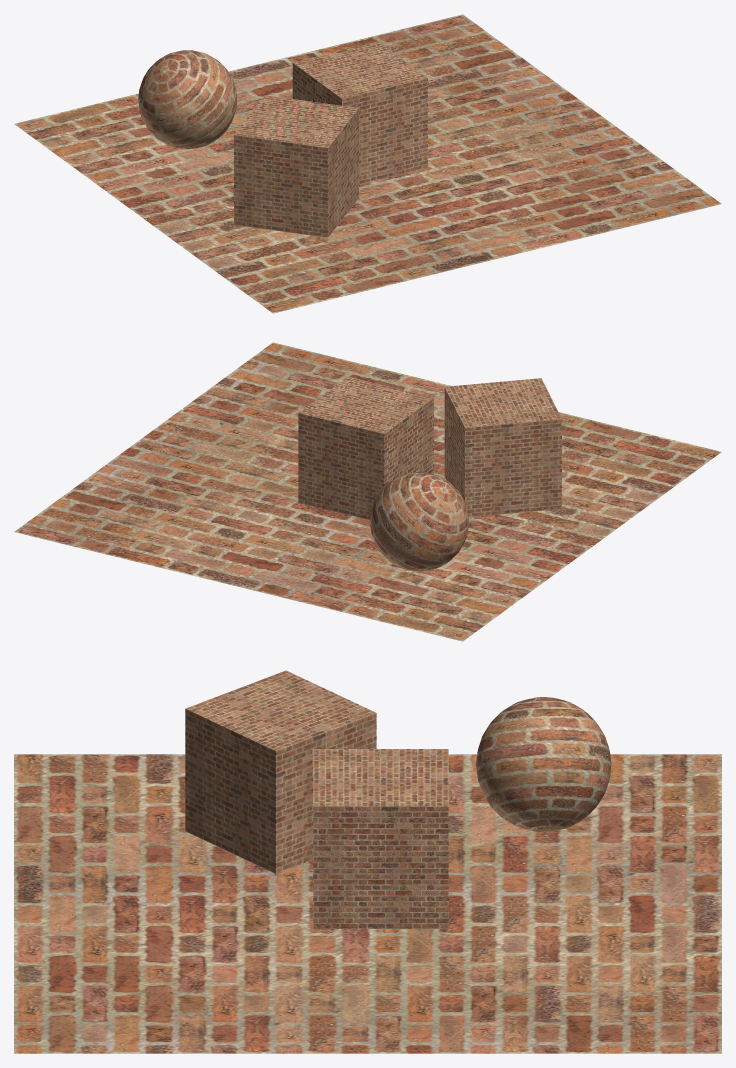
3 views of the same model, one above another, from view 1: azimuth 30°, elevation 25°; view 2: azimuth 150°, elevation 25°; view 3: azimuth 270°, elevation 25° (orthographic). The views are drawn at different scales.
Parts seen in each view (by area): view 1: Plane, Cube.001, Cube, Sphere; view 2: Plane, Cube, Cube.001, Sphere; view 3: Plane, Cube.001, Cube, Sphere.
Part boxes in pixels (box(x1,y1,x2,y2)): Plane: box(14, 14, 721, 313); Cube.001: box(234, 95, 358, 237); Cube: box(292, 41, 427, 184); Sphere: box(138, 50, 237, 149); Plane: box(14, 342, 721, 641); Cube: box(298, 376, 433, 519); Cube.001: box(444, 378, 561, 517); Sphere: box(370, 472, 468, 571); Plane: box(14, 754, 721, 1053); Cube.001: box(185, 670, 376, 873); Cube: box(313, 749, 448, 928); Sphere: box(476, 697, 611, 832).
Size of the model in its own units: 10.46 by 2.03 by 10.46.
2 materials, 2 textured.
